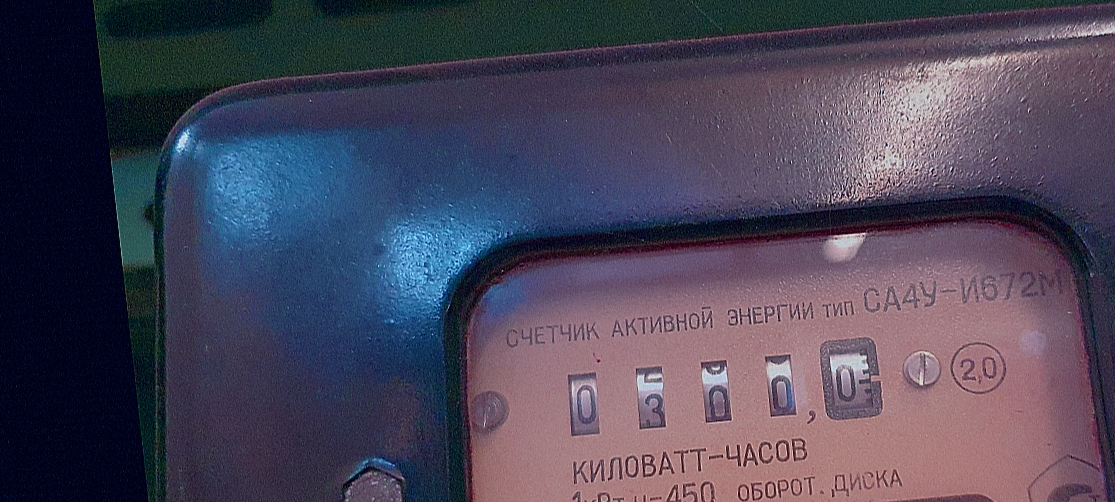0: (764, 369, 794, 415), (569, 378, 597, 426), (828, 358, 857, 403), (701, 379, 729, 422)
3: (637, 387, 664, 428)
screen: (539, 314, 903, 466)
